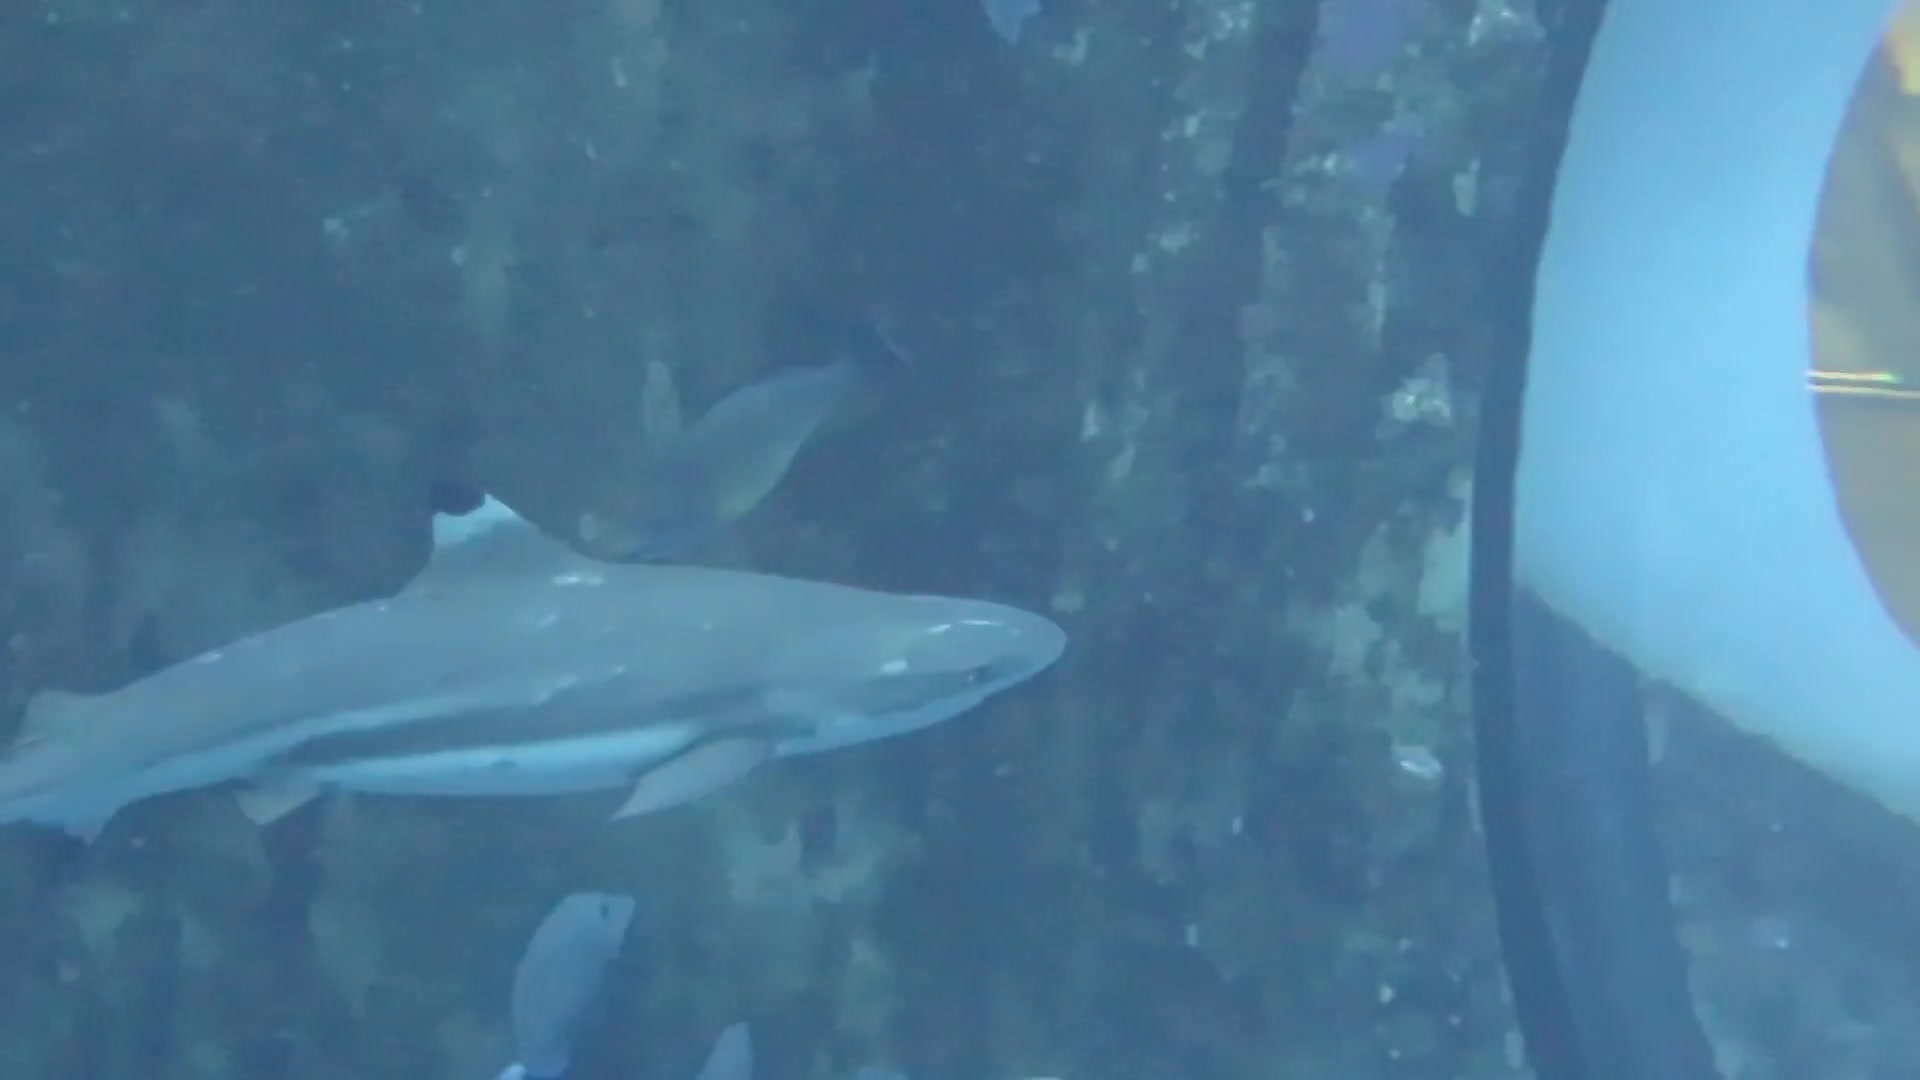Carcharhinus melanopterus: (1, 480, 1087, 841)
